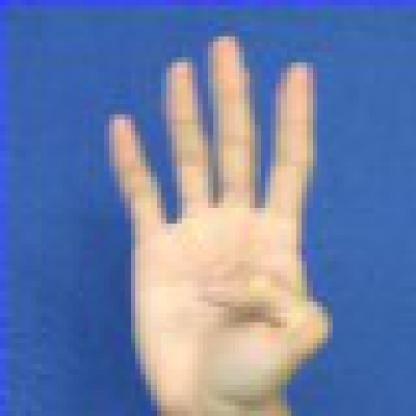four: (84, 24, 337, 407)
